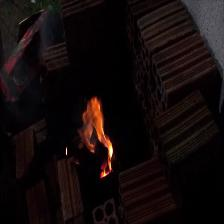fire: (80, 95, 117, 176)
